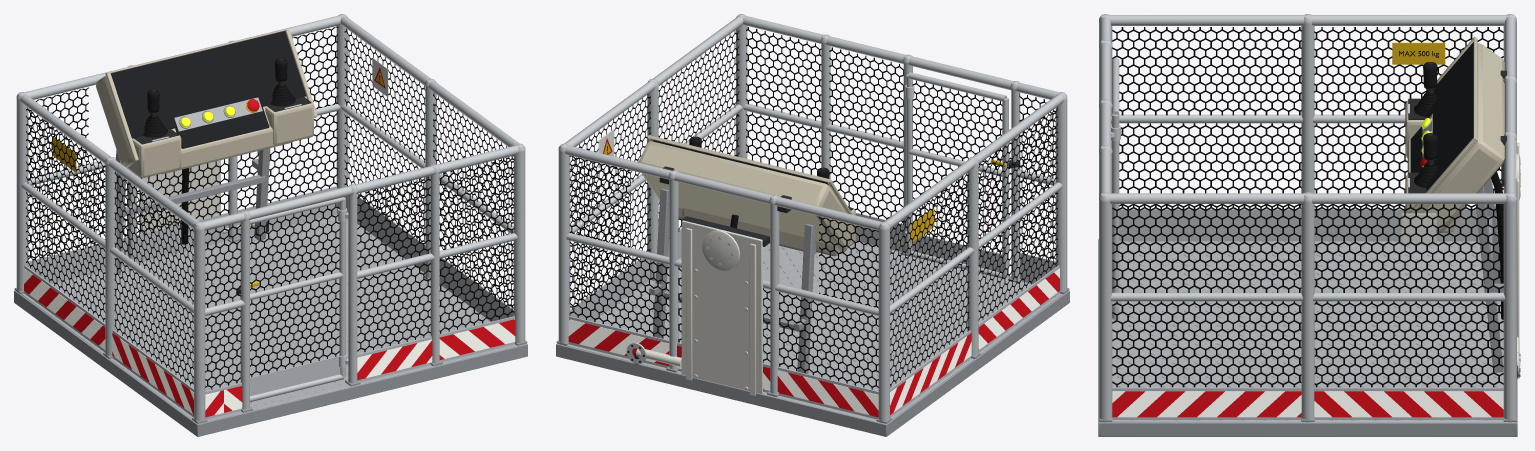
The model's file is basket30.glb.
3 renders of one model, left to right at view 1: azimuth 30°, elevation 25°; view 2: azimuth 150°, elevation 25°; view 3: azimuth 270°, elevation 25°, orthographic. The views are drawn at different scales.
Parts seen in each view (by area): view 1: B30_HexMesh_Infill, B30_Guardrails, basket_floor_plate, B30_ToeBoards, console_housing, B30_FloorEdge, console_joystick_decks, console_supports, B30_RotatorMount, B30_Plates; view 2: B30_Guardrails, B30_HexMesh_Infill, basket_floor_plate, B30_ToeBoards, B30_RotatorMount, console_housing, B30_FloorEdge, console_supports, console_joystick_decks, B30_Plates; view 3: basket_floor_plate, B30_HexMesh_Infill, B30_Guardrails, B30_ToeBoards, console_housing, B30_FloorEdge, console_supports, B30_Plates, console_joystick_decks, B30_RotatorMount.
Boxes of the visible parts, x1,y1,x2,y2 form: B30_HexMesh_Infill: [26, 26, 514, 389]; B30_Guardrails: [14, 14, 527, 423]; basket_floor_plate: [21, 214, 524, 423]; B30_ToeBoards: [24, 186, 515, 419]; console_housing: [96, 28, 317, 167]; B30_FloorEdge: [14, 290, 527, 436]; console_joystick_decks: [127, 96, 313, 177]; console_supports: [116, 148, 270, 274]; B30_RotatorMount: [139, 160, 268, 233]; B30_Plates: [52, 58, 388, 172]; B30_Guardrails: [556, 14, 1069, 423]; B30_HexMesh_Infill: [569, 27, 1057, 389]; basket_floor_plate: [559, 241, 1062, 423]; B30_ToeBoards: [568, 212, 1059, 419]; B30_RotatorMount: [626, 216, 769, 396]; console_housing: [638, 135, 858, 252]; B30_FloorEdge: [556, 276, 1069, 436]; console_supports: [649, 166, 815, 374]; console_joystick_decks: [678, 207, 855, 256]; B30_Plates: [598, 129, 934, 243]; basket_floor_plate: [1101, 241, 1514, 422]; B30_HexMesh_Infill: [1112, 27, 1503, 387]; B30_Guardrails: [1099, 14, 1516, 422]; B30_ToeBoards: [1112, 209, 1503, 419]; console_housing: [1409, 36, 1504, 233]; B30_FloorEdge: [1098, 239, 1517, 436]; console_supports: [1475, 70, 1506, 372]; B30_Plates: [1392, 42, 1445, 245]; console_joystick_decks: [1405, 98, 1456, 232]; B30_RotatorMount: [1501, 134, 1520, 378].
Size of the model in its own units: 1.97 by 1.28 by 1.91.
24 materials, 1 textured.
